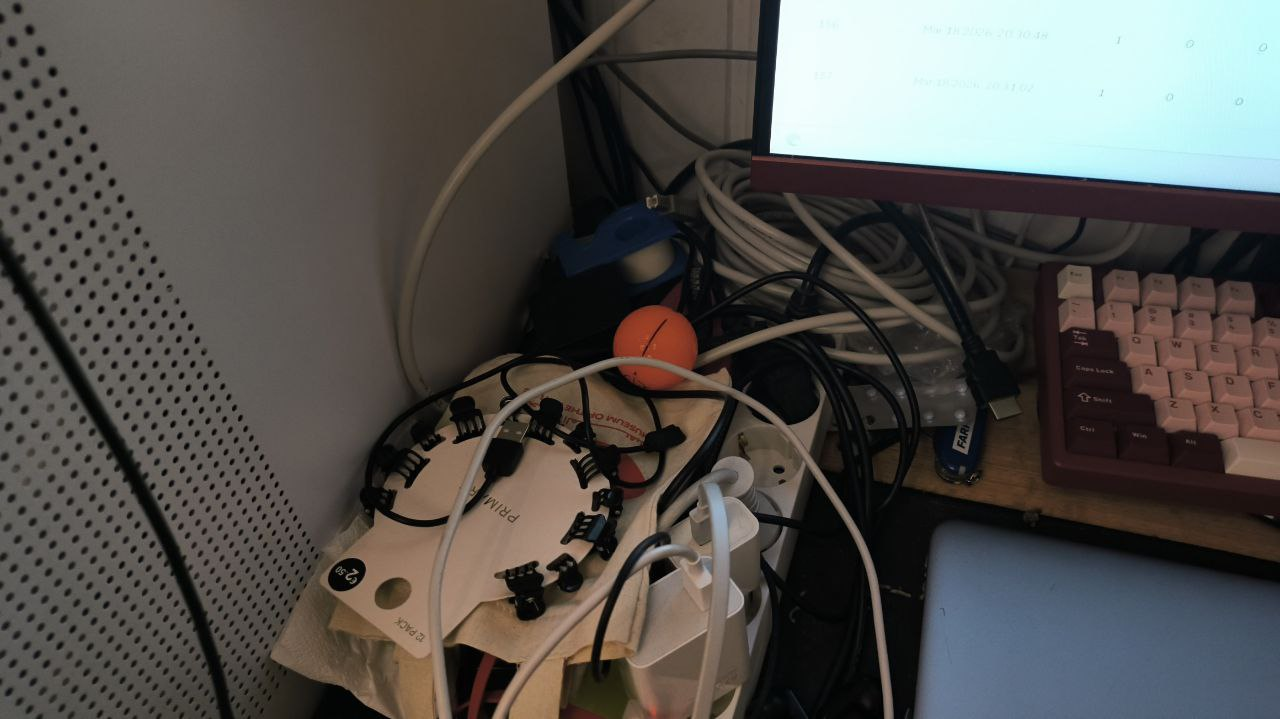orange_ball: (613, 305, 698, 390)
